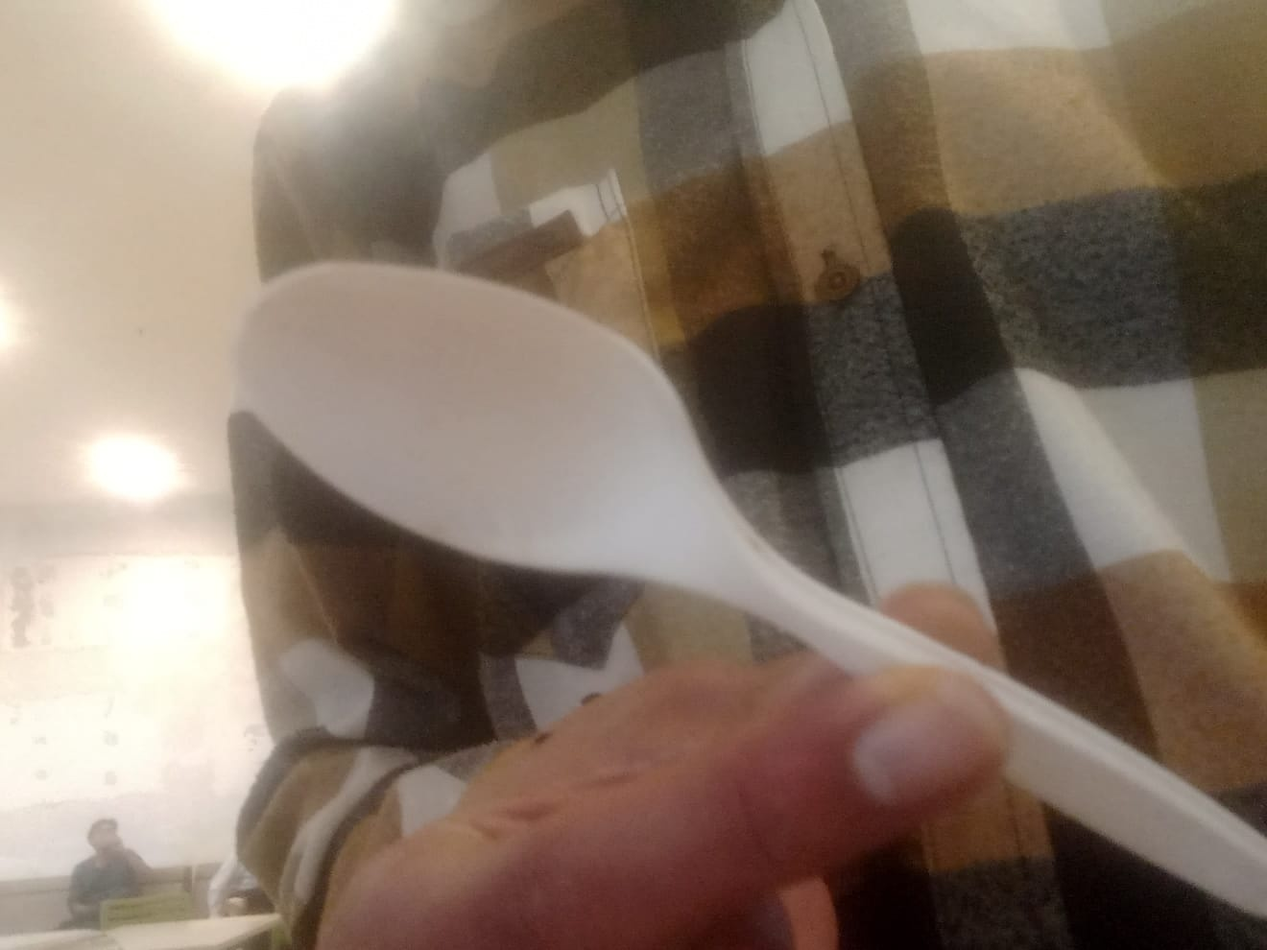Plastico: (231, 260, 1267, 918)
